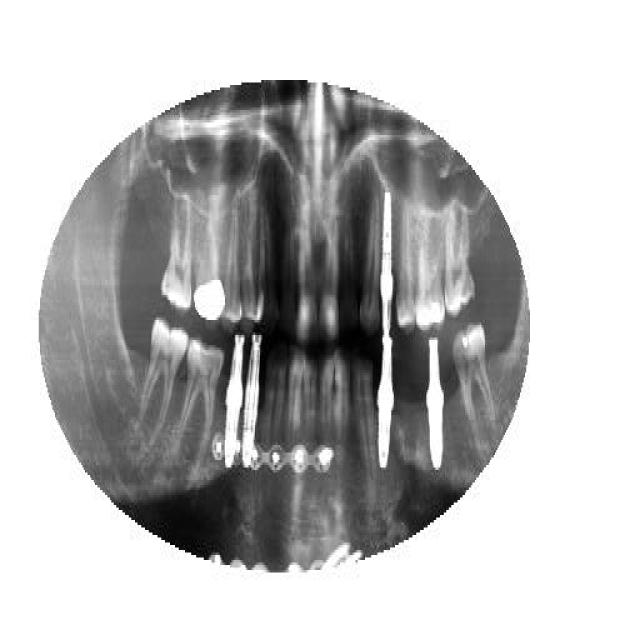Fillings: (452, 320, 497, 438), (194, 197, 226, 325), (415, 215, 445, 333)
Implant: (224, 332, 246, 472), (242, 332, 262, 472), (425, 335, 445, 473), (377, 335, 395, 470), (379, 190, 395, 338)
